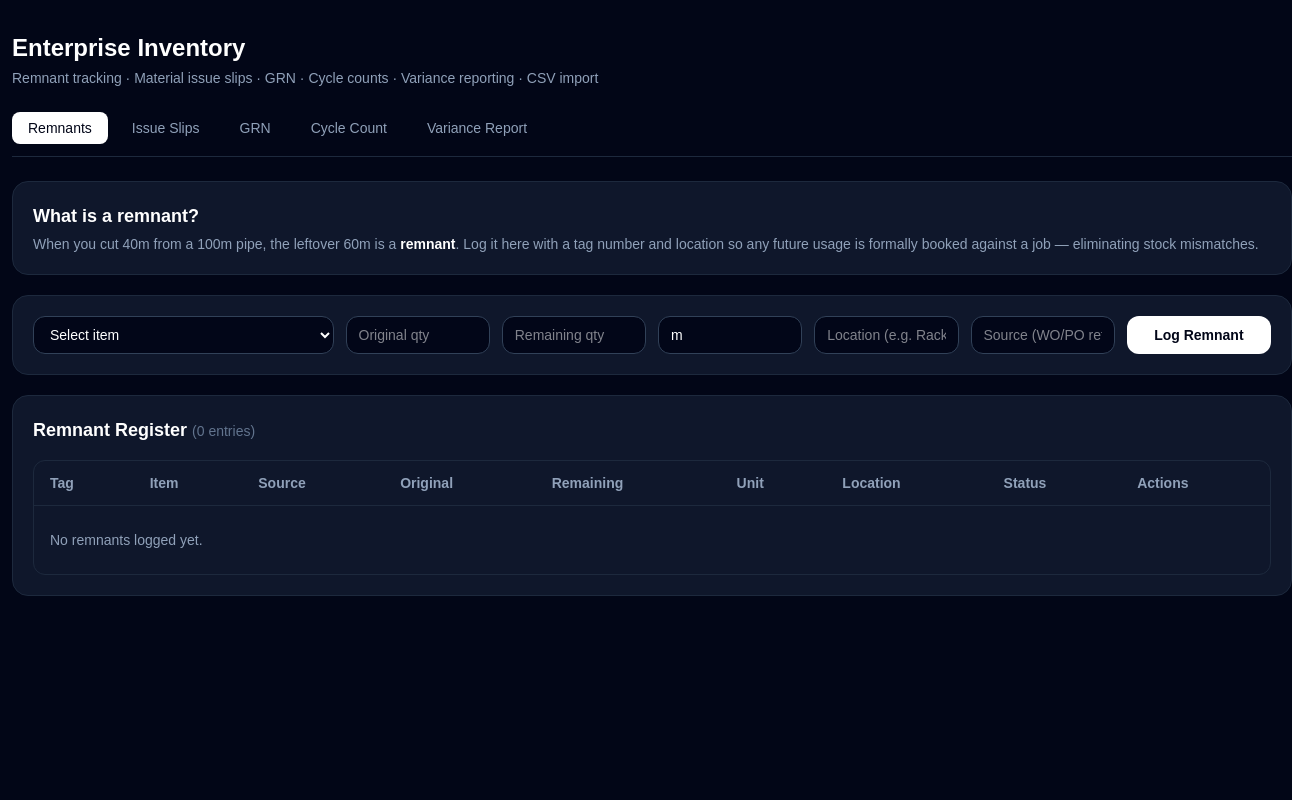
Test: a Supervisor is offered the Supervisor writes and not the Admin ones › approves, rejects and issues slips
Click the button "Issue Slips" at (166, 128), box [116,112,216,144]
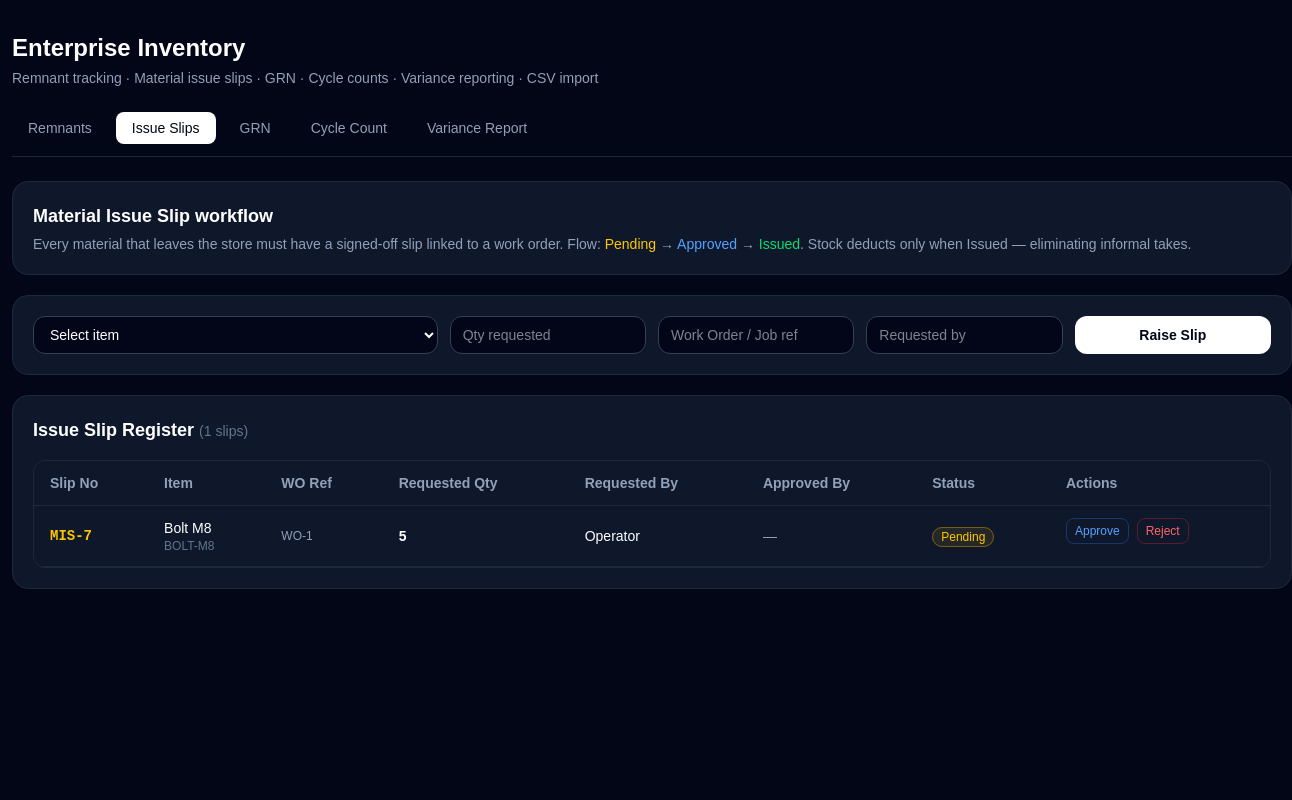
Check: the text "MIS-7" is shown, box [34,506,148,566]
Check: the button "Approve" is shown, box [1066,518,1129,544]
Check: the button "Reject" is shown, box [1137,518,1189,544]
